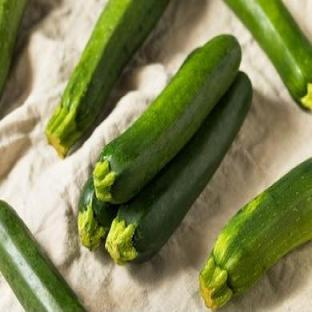Zucchini: (106, 72, 251, 263), (93, 35, 240, 203), (200, 159, 311, 308), (0, 201, 84, 311), (78, 177, 117, 249)
